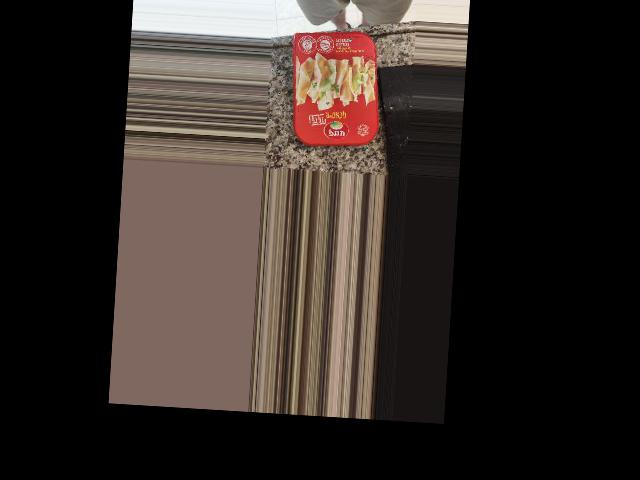cheese: (298, 8, 386, 126)
